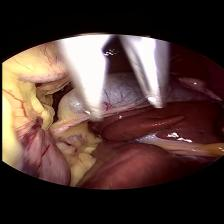Grasper: (36, 34, 172, 122)
